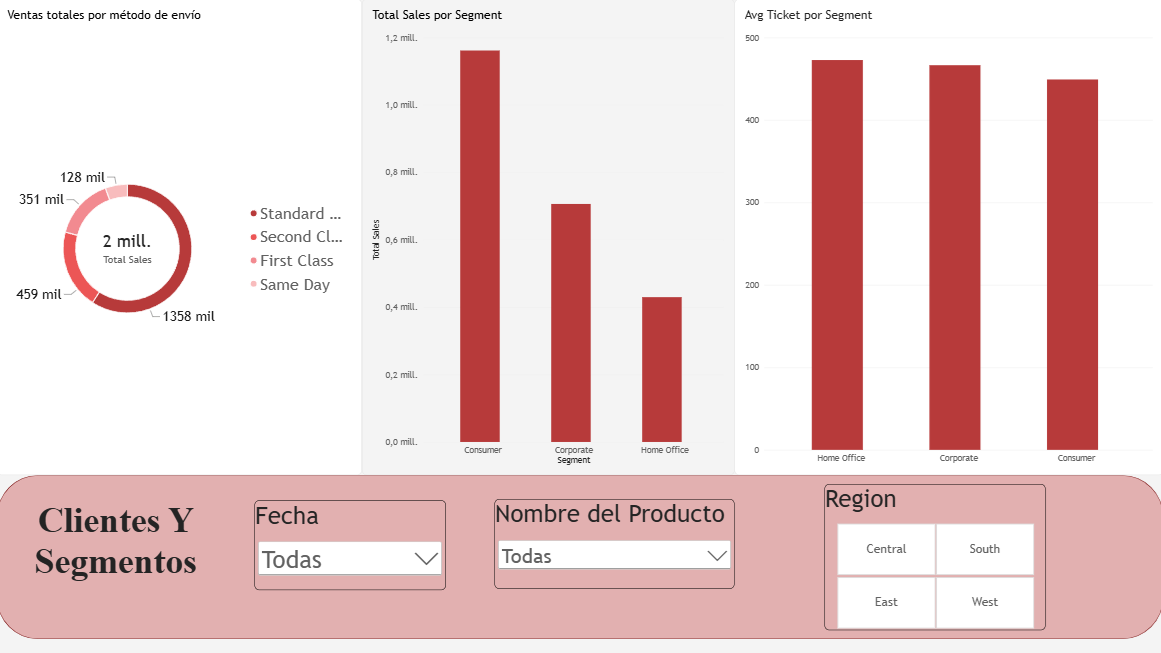

This screenshot's page, from the dashboard's own definition file:
{"tool":"powerbi","page":{"name":"Clientes y Segmentos","canvas":[1920,1080],"ordinal":2},"visuals":[{"type":"columnChart","fields":{"Category":["DIM_Cliente.Segment"],"Y":["Medidas DAX.Total Sales"]},"box":[601,0,613.4,784.2],"z":0},{"type":"columnChart","fields":{"Category":["DIM_Cliente.Segment"],"Y":["Medidas DAX.Avg Ticket"]},"box":[1214.4,0,706,784.2],"z":1000},{"type":"donutChart","title":"Ventas totales por método de envío","fields":{"Category":["FACT_Ventas.Ship Mode"],"Y":["Medidas DAX.Total Sales"]},"box":[0,0,601,784.2],"z":2000},{"type":"shape","box":[0,784.2,1920.4,269.6],"z":3000},{"type":"textbox","box":[30.9,825.4,329.3,146.1],"z":4000},{"type":"slicer","title":"Fecha","fields":{"Values":["DIM_Fecha.NombreMes","DIM_Fecha.Año"]},"box":[424,825.4,314.9,148.2],"z":5000},{"type":"slicer","title":"Nombre del Producto","fields":{"Values":["DIM_Producto.Product Name"]},"box":[819.2,823.3,395.2,148.2],"z":6000},{"type":"slicer","title":"Region","fields":{"Values":["FACT_Ventas.Region"]},"box":[1362.6,798.6,364.3,240.8],"z":7000}]}

Visuals, with their boxes in screenshot pixels (x1, y1, x2, y2), scaled from the page's 1920x1080 canvas onto the 1161x653 screenshot:
columnChart - DIM_Cliente.Segment x Medidas DAX.Total Sales: <region>363, 0, 734, 474</region>
columnChart - DIM_Cliente.Segment x Medidas DAX.Avg Ticket: <region>734, 0, 1160, 474</region>
"Ventas totales por método de envío" donutChart: <region>0, 0, 363, 474</region>
shape: <region>0, 474, 1160, 637</region>
textbox: <region>19, 499, 218, 587</region>
"Fecha" slicer: <region>256, 499, 447, 589</region>
"Nombre del Producto" slicer: <region>495, 498, 734, 587</region>
"Region" slicer: <region>824, 483, 1044, 628</region>
